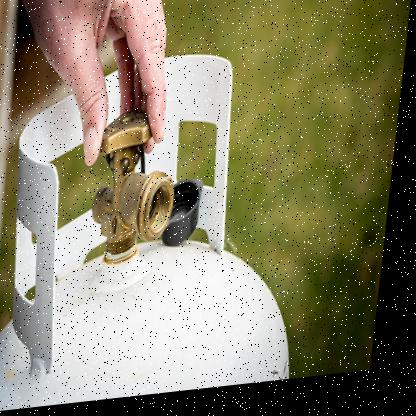gas-tank: (0, 35, 349, 415)
